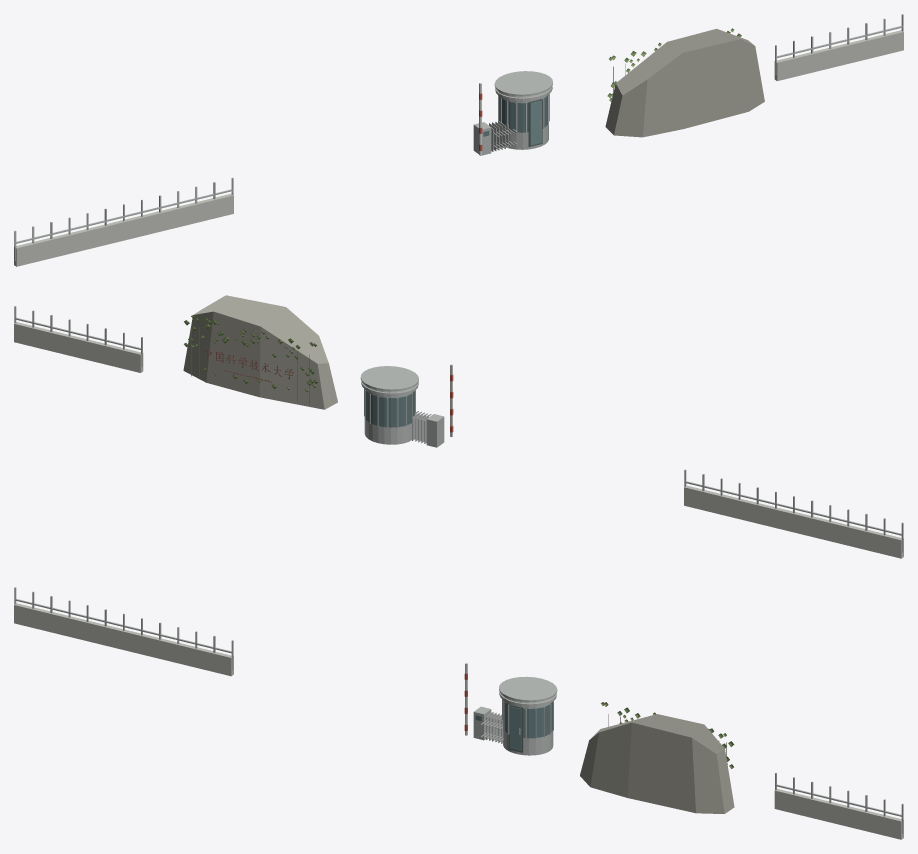
Rendered from north_gate.glb.
3 renders of one model, top to bottom at view 1: azimuth 30°, elevation 25°; view 2: azimuth 150°, elevation 25°; view 3: azimuth 330°, elevation 25°, orthographic.
Parts seen in each view (by area): view 1: NewNorthGate_GateGreyStone, NewNorthGate_EntryStone, NewNorthGate_GateSteel, NewNorthGate_GateDarkGlass, NewNorthGate_GateGlass; view 2: NewNorthGate_GateGreyStone, NewNorthGate_EntryStone, NewNorthGate_GateSteel, NewNorthGate_GateDarkGlass, NewNorthGate_GateVineGreen; view 3: NewNorthGate_GateGreyStone, NewNorthGate_EntryStone, NewNorthGate_GateSteel, NewNorthGate_GateDarkGlass, NewNorthGate_GateGlass.
Boxes of the visible parts, x1,y1,x2,y2 form: NewNorthGate_GateGreyStone: (605,28,764,137); NewNorthGate_EntryStone: (14,30,903,266); NewNorthGate_GateSteel: (14,14,903,260); NewNorthGate_GateDarkGlass: (483,94,548,136); NewNorthGate_GateGlass: (530,100,541,145); NewNorthGate_GateGreyStone: (183,295,337,409); NewNorthGate_EntryStone: (14,322,903,558); NewNorthGate_GateSteel: (14,306,903,552); NewNorthGate_GateDarkGlass: (364,389,414,427); NewNorthGate_GateVineGreen: (184,315,318,391); NewNorthGate_GateGreyStone: (580,714,734,813); NewNorthGate_EntryStone: (14,603,903,839); NewNorthGate_GateSteel: (14,587,903,833); NewNorthGate_GateDarkGlass: (475,700,552,738); NewNorthGate_GateGlass: (510,706,521,751).
Bounding box in the file's own units: 49.07 × 4 × 4.17.
